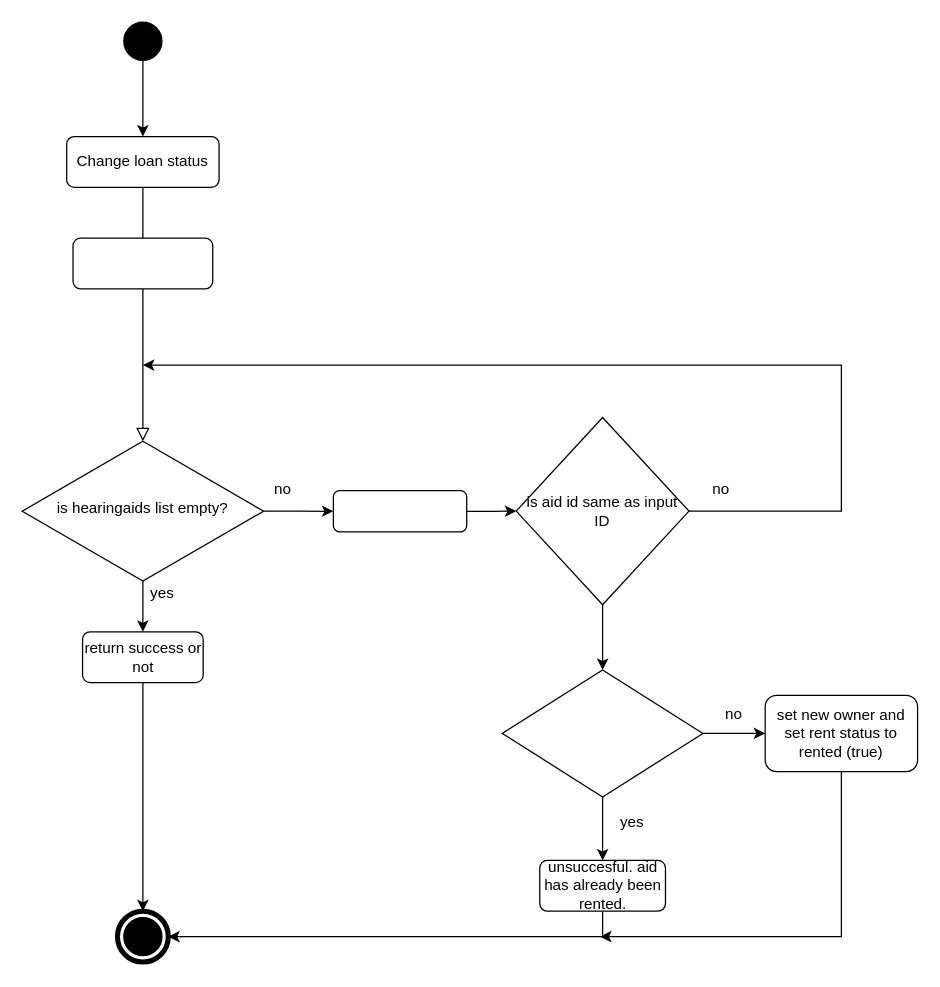
This 940x987 diagram has some shape labels left out. Here are the shapes that lost their labels. From the top down, the box of each, then its label:
(72, 237, 213, 289): input ID and owner
(332, 489, 467, 532): get next aid
(501, 669, 703, 797): is aid rented?
